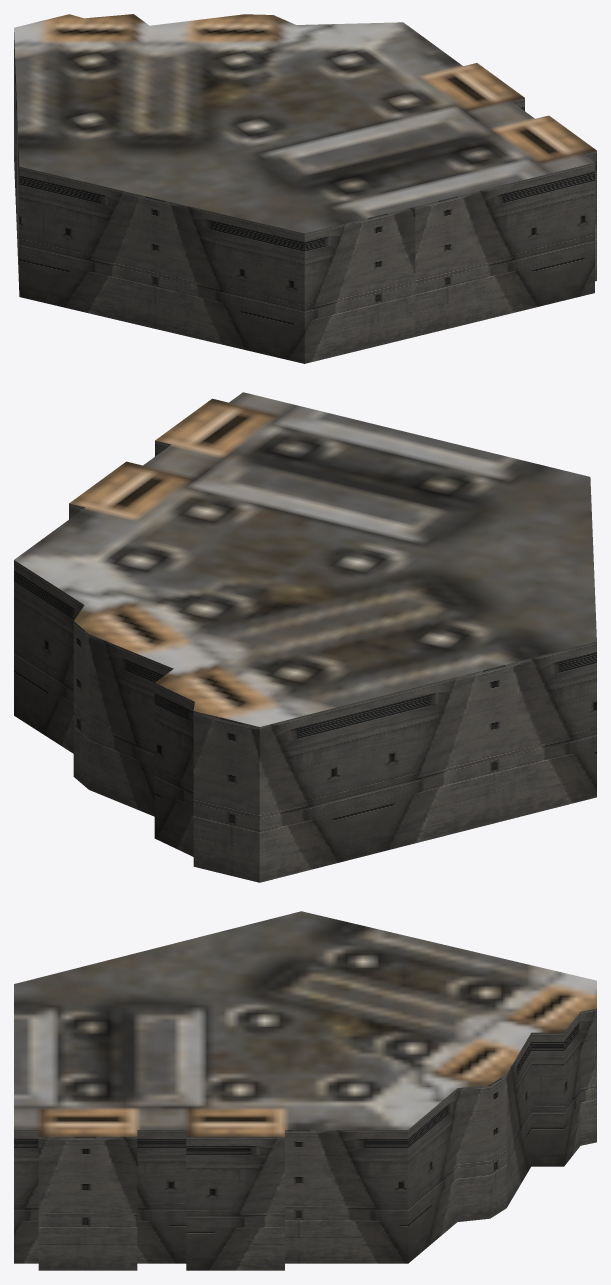
File: fortress_heavy_a_56.glb
3 renders of one model, top to bottom at view 1: azimuth 30°, elevation 25°; view 2: azimuth 150°, elevation 25°; view 3: azimuth 270°, elevation 25°, orthographic. The views are drawn at different scales.
Parts seen in each view (by area): view 1: buildings/saxarba/fortress_heavy/fortress_heavy_a_56; view 2: buildings/saxarba/fortress_heavy/fortress_heavy_a_56; view 3: buildings/saxarba/fortress_heavy/fortress_heavy_a_56.
Part boxes in pixels (x1,y1,x2,y2): buildings/saxarba/fortress_heavy/fortress_heavy_a_56: (14,14,596,363); buildings/saxarba/fortress_heavy/fortress_heavy_a_56: (14,392,596,882); buildings/saxarba/fortress_heavy/fortress_heavy_a_56: (14,911,596,1270).
Bounding box in the file's own units: 65 × 18 × 71.
